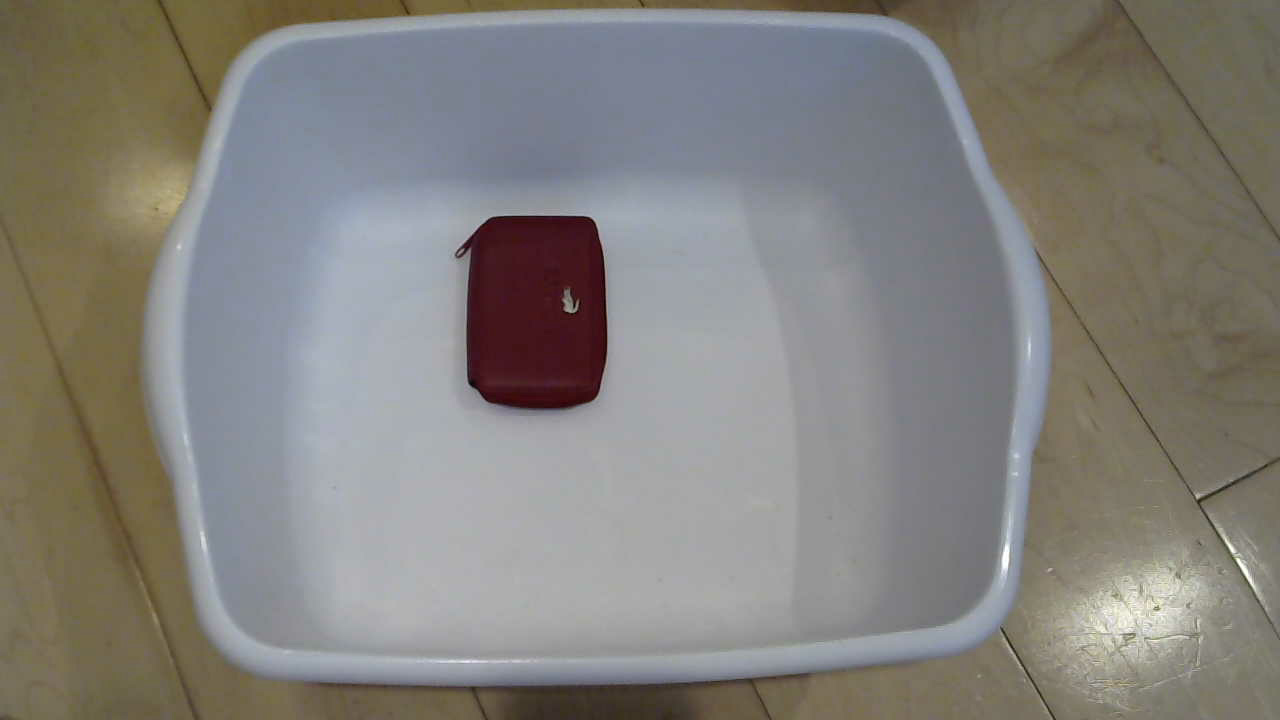wallet: (445, 208, 633, 439)
